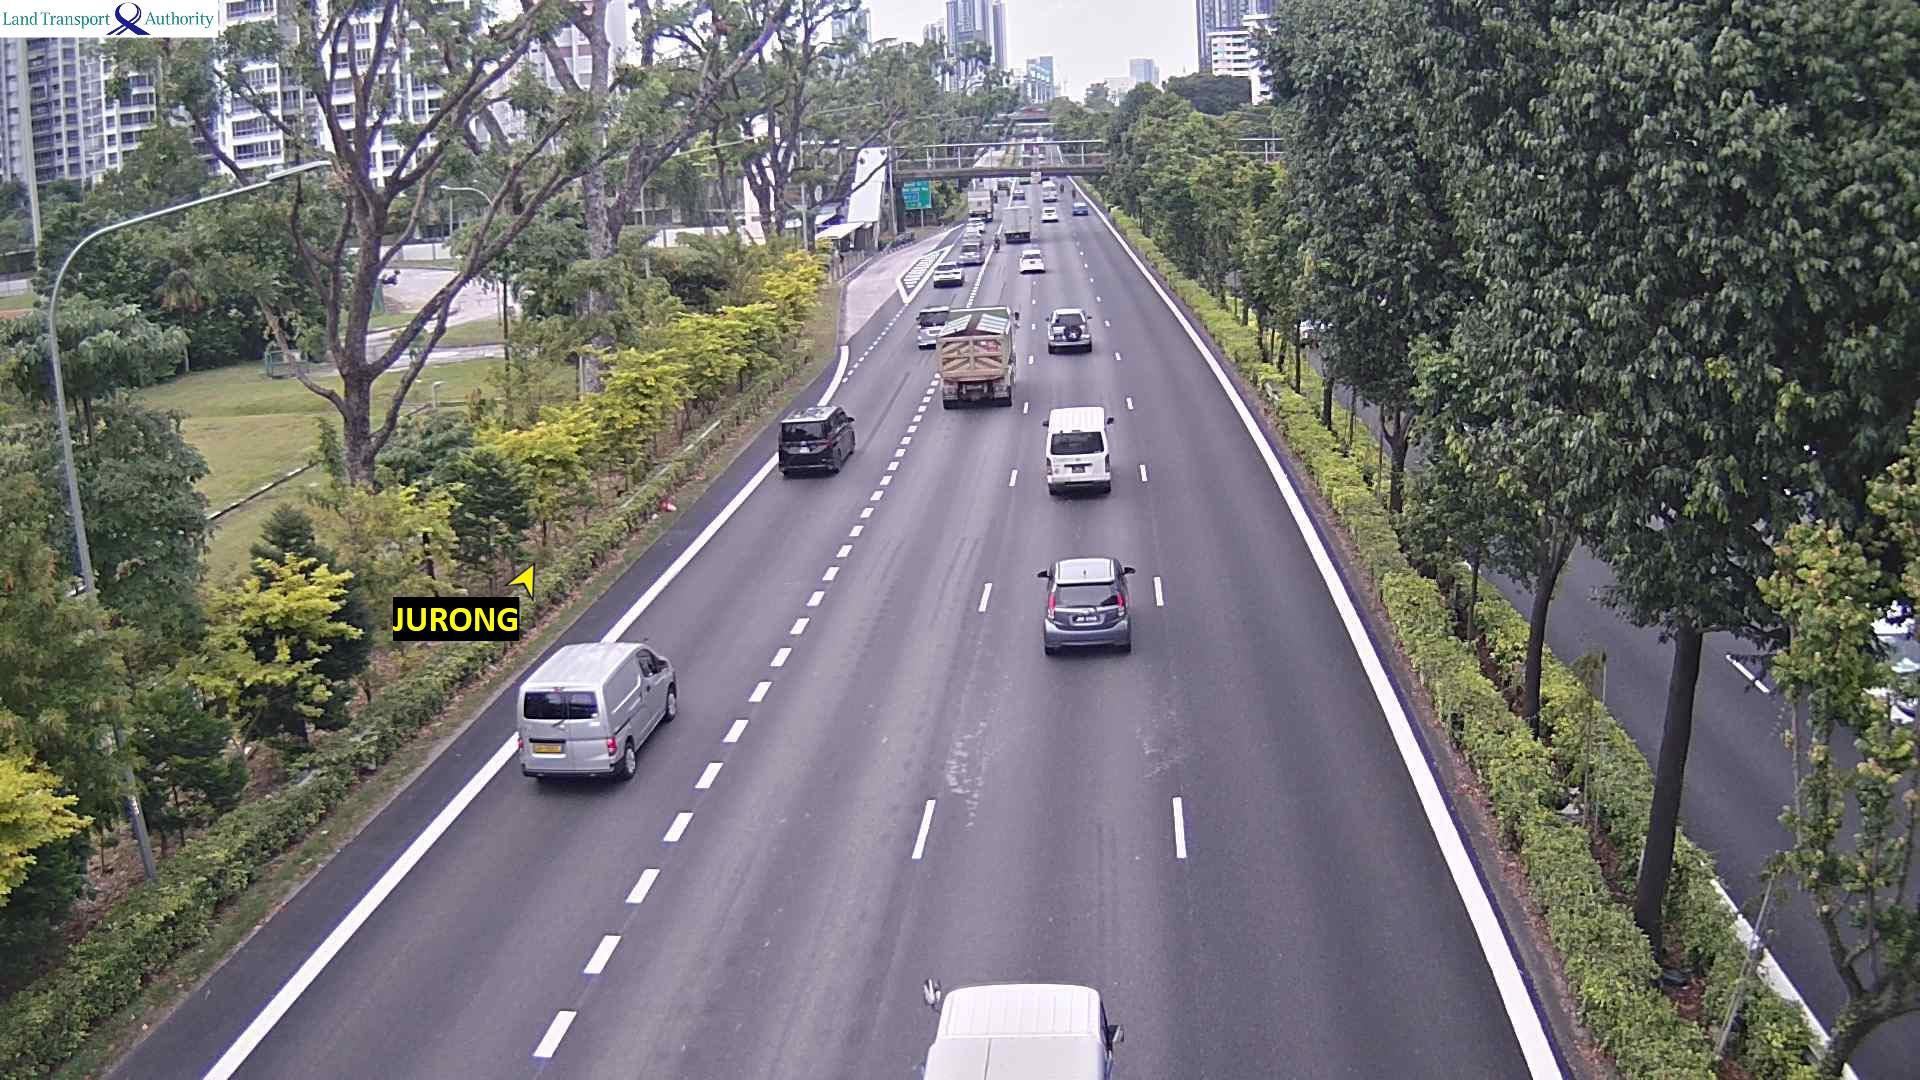cars: (515, 639, 677, 783), (916, 977, 1123, 1078), (1035, 555, 1136, 655), (1040, 404, 1114, 495), (777, 403, 855, 476), (1045, 306, 1092, 352), (914, 305, 949, 348), (956, 234, 986, 265), (932, 261, 963, 287), (1018, 245, 1045, 273), (1040, 178, 1059, 200), (964, 217, 985, 236), (960, 230, 984, 245), (378, 267, 398, 284), (1040, 205, 1058, 222), (1009, 187, 1027, 204), (1071, 201, 1087, 216), (996, 178, 1016, 190)
motorcycle: (991, 234, 1001, 250), (1071, 188, 1079, 198), (1059, 184, 1066, 193)
trucks: (939, 302, 1020, 410), (1001, 208, 1034, 242), (969, 190, 994, 220)
